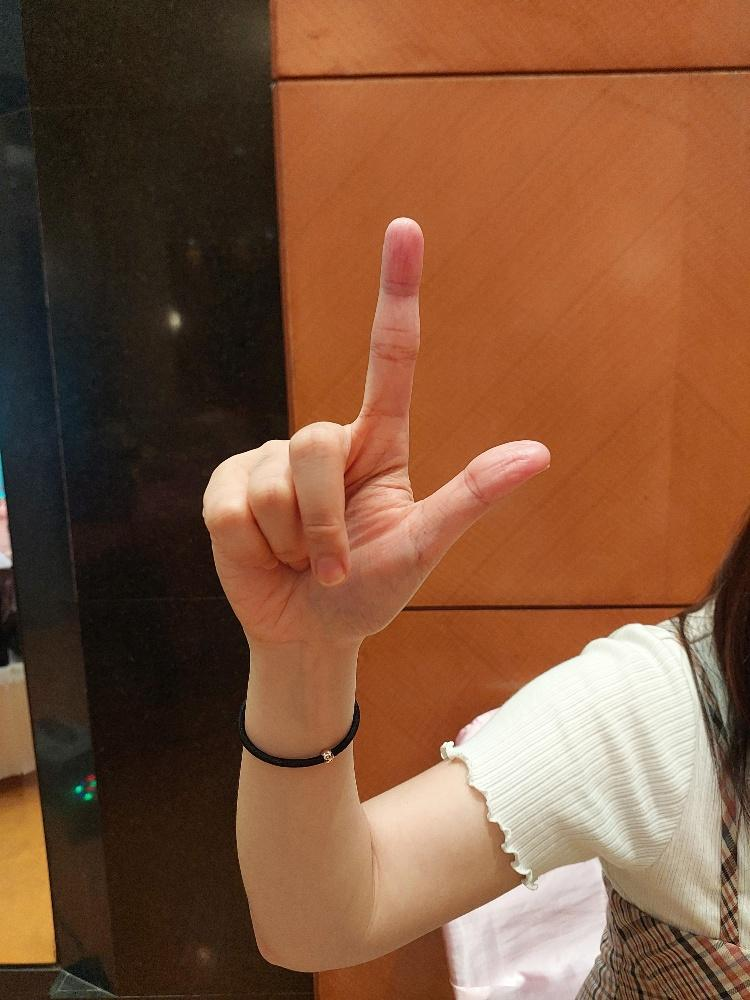l: (196, 211, 551, 646)
